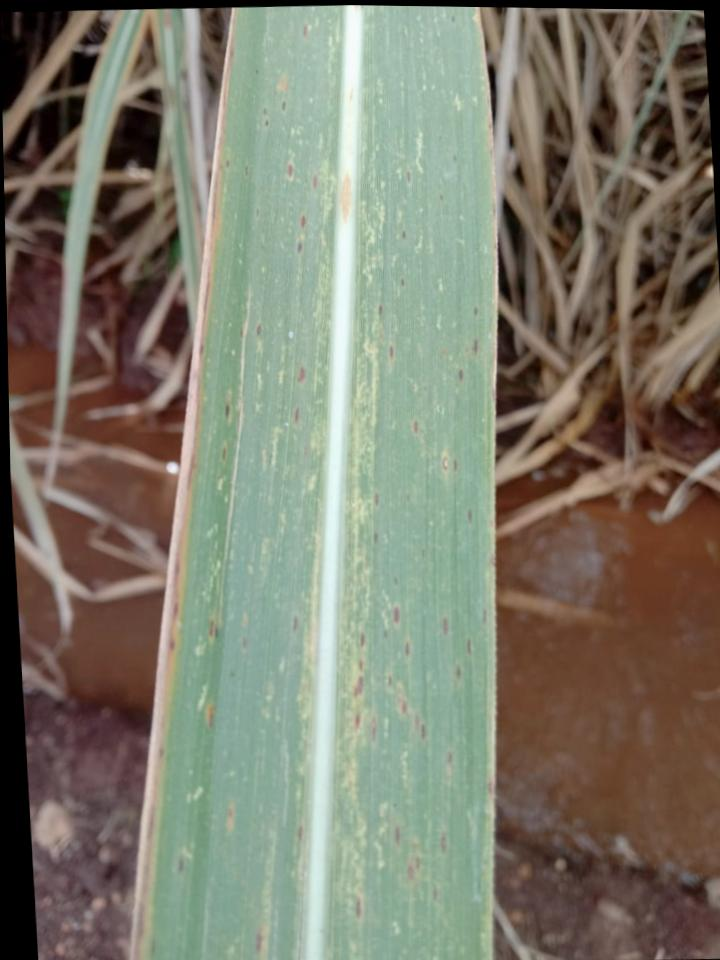RedRot: (338, 175, 355, 223)
Rust: (347, 594, 490, 774), (409, 416, 478, 528), (389, 813, 459, 909), (282, 158, 324, 256), (372, 272, 410, 365), (451, 304, 487, 389), (213, 397, 235, 466), (288, 361, 309, 430), (258, 97, 288, 136), (220, 159, 259, 180), (368, 488, 382, 545), (246, 923, 267, 959), (205, 609, 224, 643), (353, 892, 369, 924), (205, 699, 219, 734), (174, 848, 190, 877), (288, 609, 301, 635), (250, 319, 264, 342), (292, 825, 306, 847), (404, 165, 415, 190), (298, 23, 310, 43)
